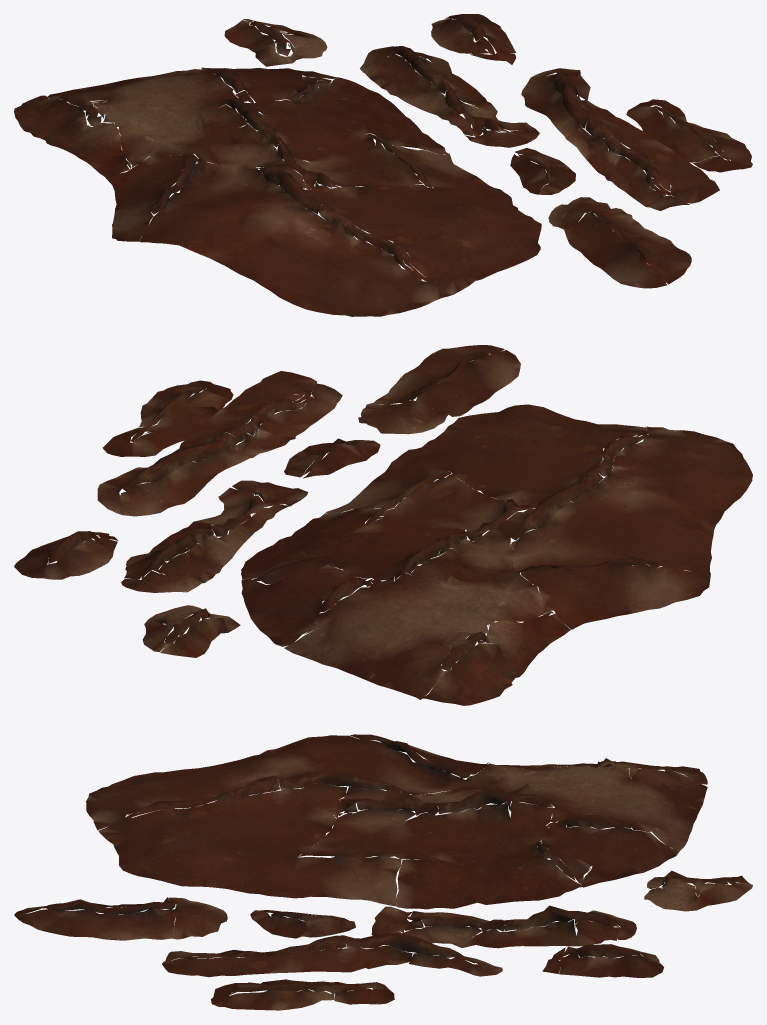
The model's file is roots_spread.glb.
3 views of the same model, one above another, from view 1: azimuth 30°, elevation 25°; view 2: azimuth 150°, elevation 25°; view 3: azimuth 270°, elevation 25° (orthographic). The views are drawn at different scales.
Parts seen in each view (by area): view 1: root_cluster_02_d; view 2: root_cluster_02_d; view 3: root_cluster_02_d.
Boxes of the visible parts, box(x1,y1,x2,y2) form: root_cluster_02_d: box(14, 14, 752, 316); root_cluster_02_d: box(14, 345, 752, 705); root_cluster_02_d: box(14, 734, 752, 1010).
Size of the model in its own units: 2.38 by 0.1983 by 2.71.
Materials: 1 (1 with a texture image).
